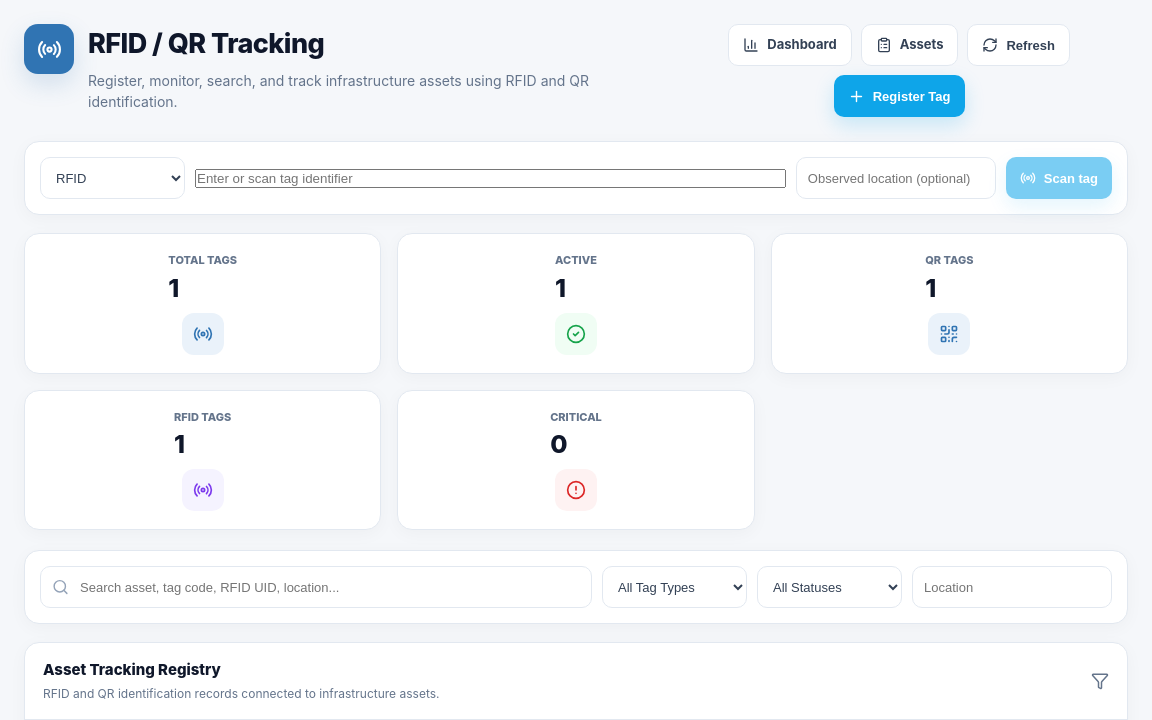
Test case: InfrastructureTracking › lists persisted tagged assets and records scans through the supported endpoint
Step 1. Type "RFID-4" into the field named "RFID or QR identifier" → (490, 178), box top-left (195, 168), bottom-right (786, 188)
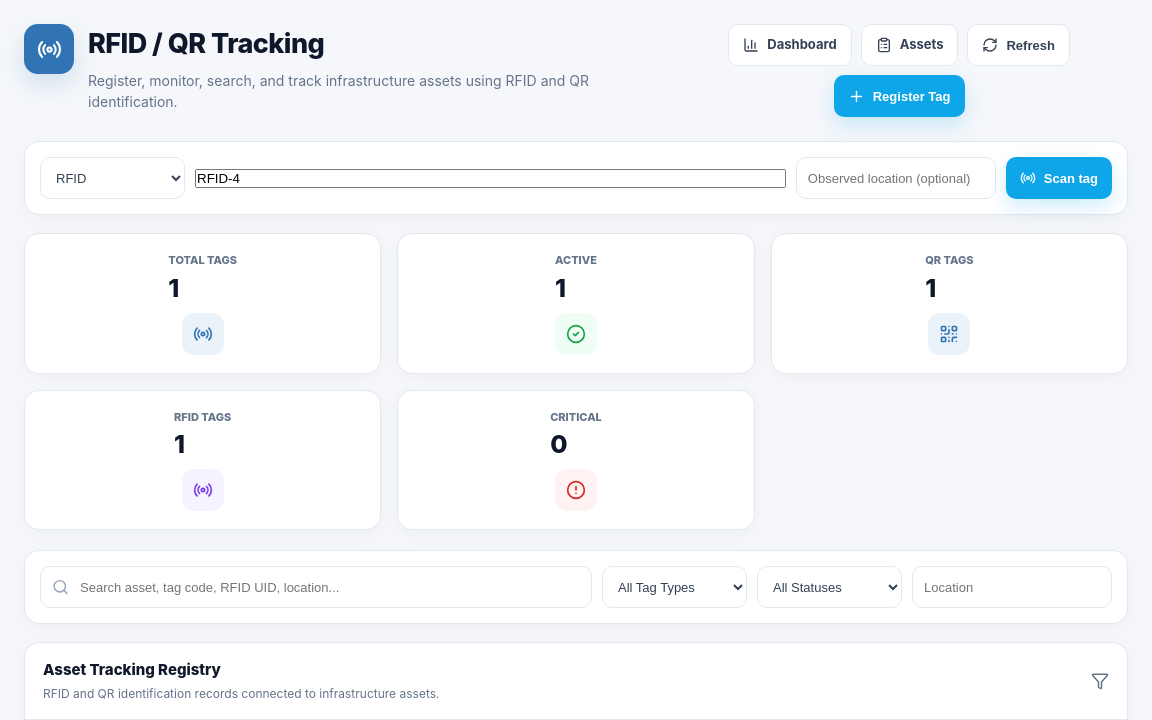
Step 2. Type "Workshop" into the field named "Observed scan location" → (896, 178), box top-left (796, 157), bottom-right (996, 199)
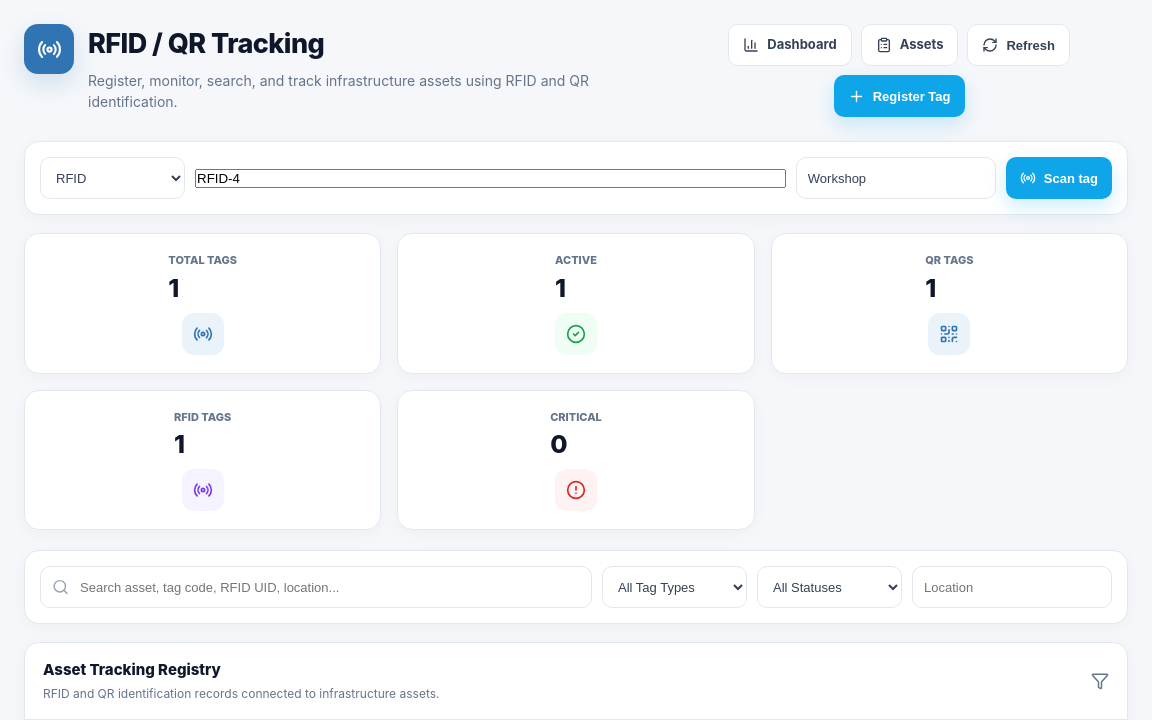
Step 3. Click the button "Scan tag" → click(1059, 178), box top-left (1006, 157), bottom-right (1112, 199)
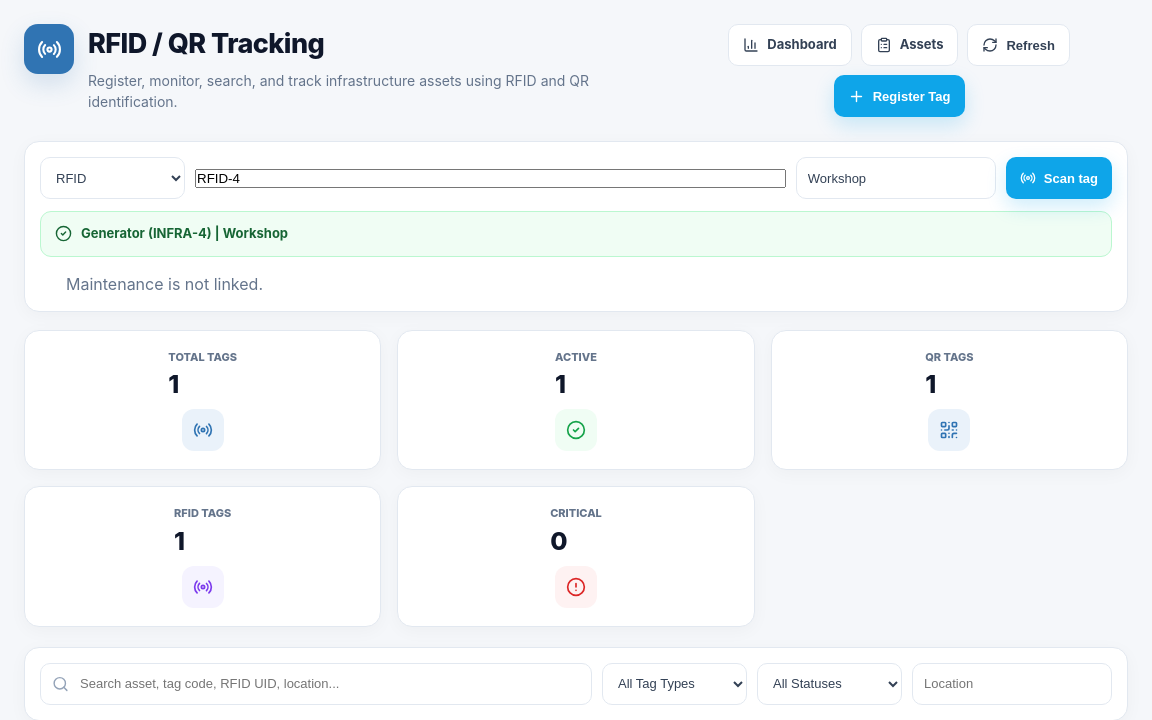
Result: the text "Maintenance is not linked." is shown at top-left (66, 274), bottom-right (263, 294)
